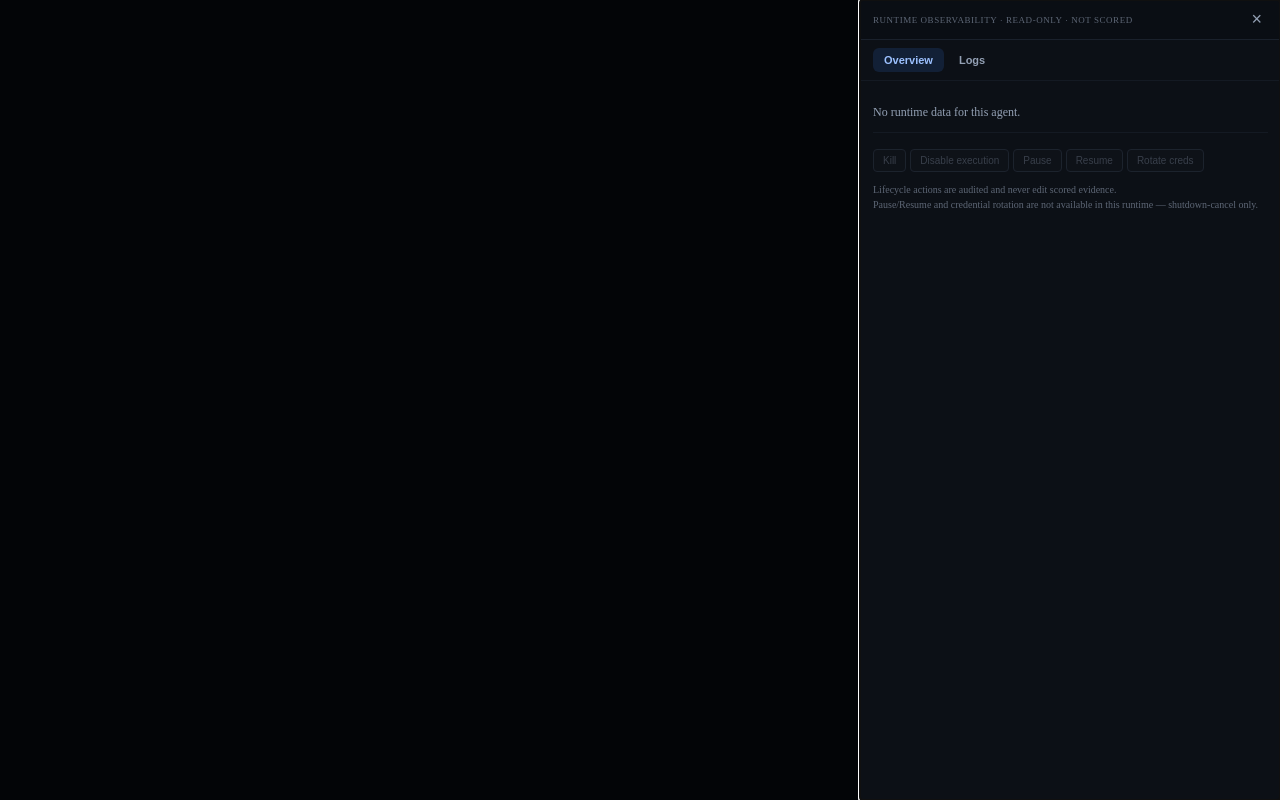
Scenario: AgentOpsDrawer (REQ-030..032 / AC-003 / AC-030 / SEC-003 / F-6 live data) › shows OPS telemetry read-only + labeled non-scoring, with NO score/proof/CLV affordance (#2 / SEC-003)
What coordinates should you click on to do the following:
click the tab "Logs"
I would click on:
 (972, 60)
Its box is x1=948 y1=48 x2=996 y2=72.
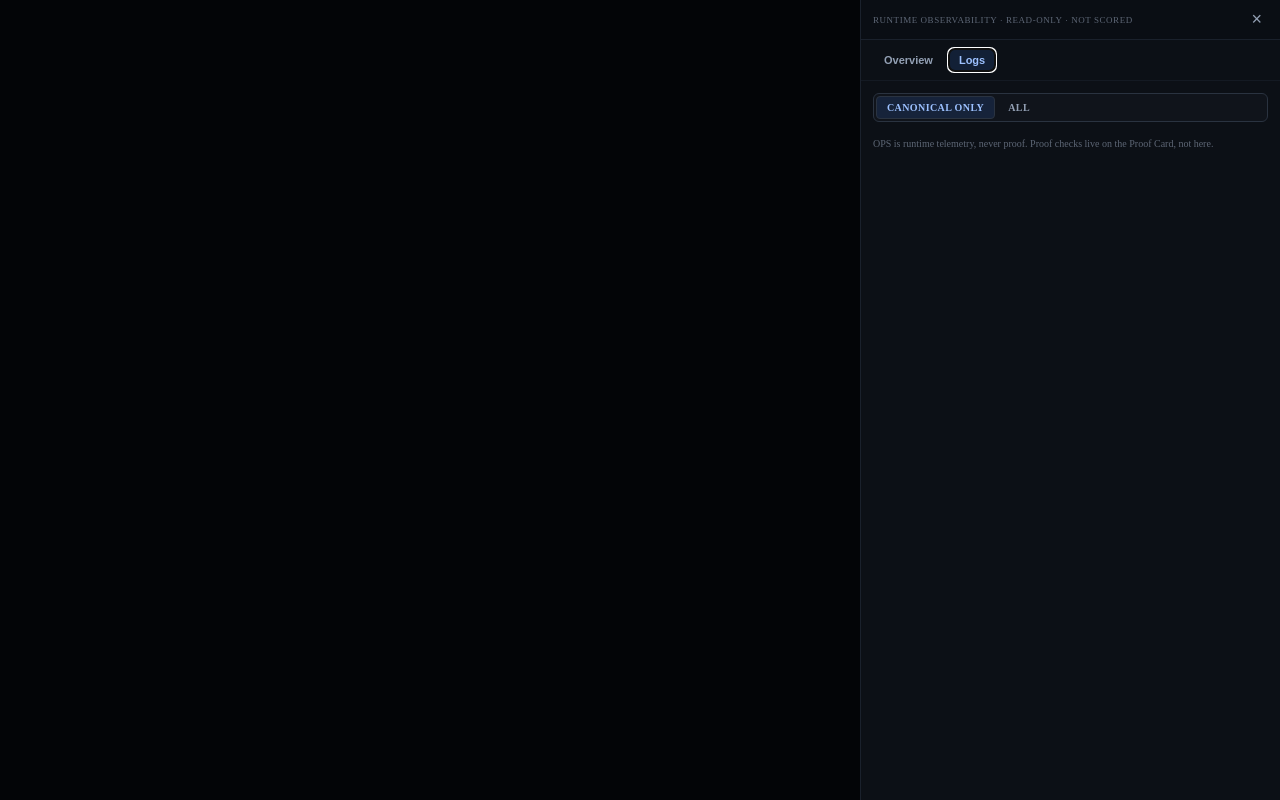
What coordinates should you click on to do the following:
click the radio button labelled "All"
I would click on:
 (1019, 108)
Its box is x1=997 y1=96 x2=1041 y2=119.
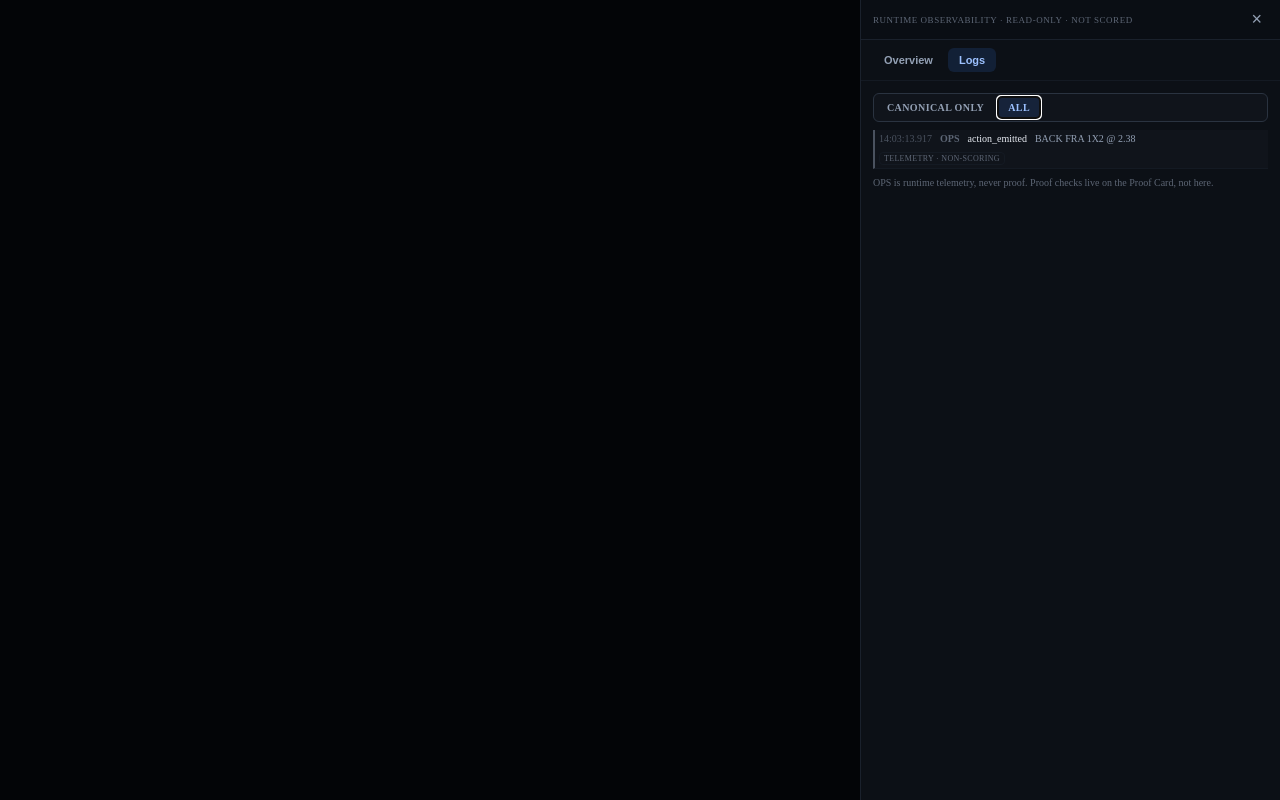
Expected: the button "Kill" is not shown
Result: the text "OPS" is shown at x1=940 y1=133 x2=960 y2=144
Result: the text "telemetry · non-scoring" is shown at x1=879 y1=152 x2=1005 y2=165
